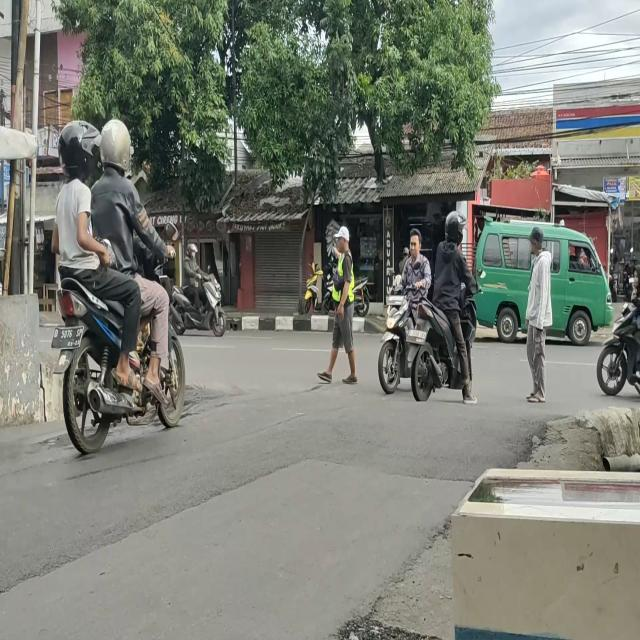helmet: (58, 121, 93, 181), (102, 117, 132, 170), (445, 210, 464, 248), (185, 238, 199, 259)
no-helmet: (402, 226, 423, 262)
